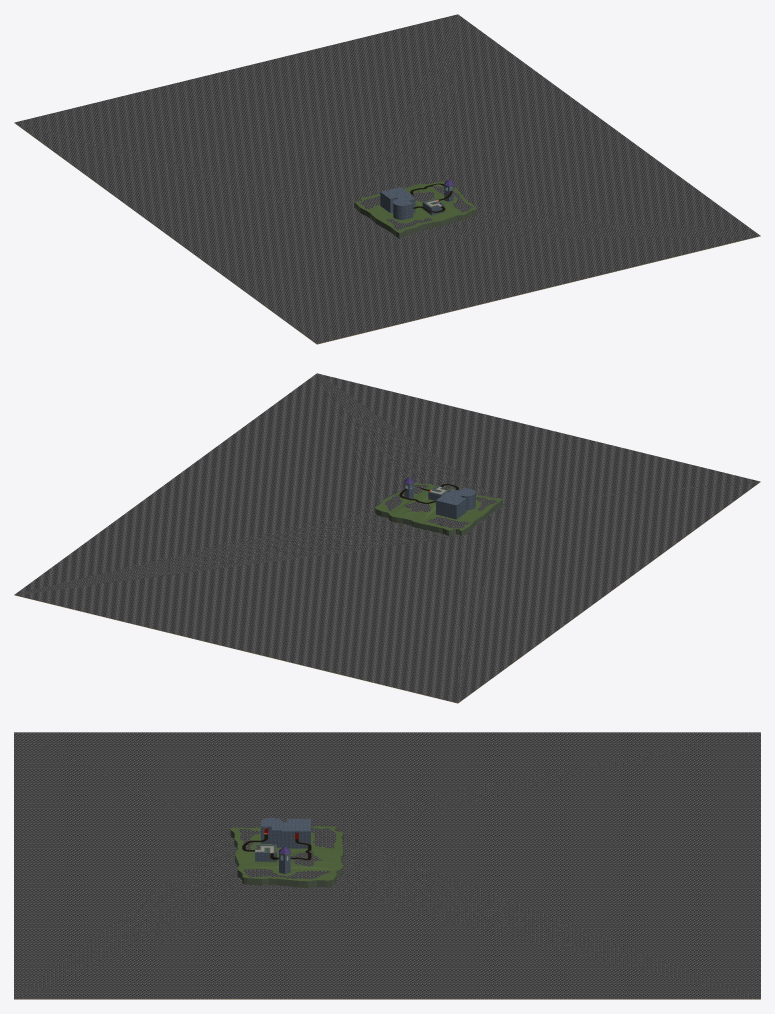
3 renders of one model, top to bottom at view 1: azimuth 30°, elevation 25°; view 2: azimuth 150°, elevation 25°; view 3: azimuth 270°, elevation 25°, orthographic. The views are drawn at different scales.
Parts seen in each view (by area): view 1: Carpet_Spires_SKP__ef_wave, Carpet_Spires_SKP__Grass, Carpet_Spires_SKP__Wall, Carpet_Spires_SKP__Rock, Carpet_Spires_SKP__Sand; view 2: Carpet_Spires_SKP__ef_wave, Carpet_Spires_SKP__Grass, Carpet_Spires_SKP__Wall, Carpet_Spires_SKP__Rock, Carpet_Spires_SKP__Sand; view 3: Carpet_Spires_SKP__ef_wave, Carpet_Spires_SKP__Grass, Carpet_Spires_SKP__Wall, Carpet_Spires_SKP__Rock, Carpet_Spires_SKP__Sand.
Part boxes in pixels (bbox=[...]): Carpet_Spires_SKP__ef_wave: bbox=[14, 14, 760, 344]; Carpet_Spires_SKP__Grass: bbox=[355, 181, 475, 233]; Carpet_Spires_SKP__Wall: bbox=[380, 185, 453, 219]; Carpet_Spires_SKP__Rock: bbox=[354, 199, 476, 238]; Carpet_Spires_SKP__Sand: bbox=[14, 123, 759, 344]; Carpet_Spires_SKP__ef_wave: bbox=[14, 373, 760, 703]; Carpet_Spires_SKP__Grass: bbox=[375, 482, 502, 530]; Carpet_Spires_SKP__Wall: bbox=[404, 483, 475, 519]; Carpet_Spires_SKP__Rock: bbox=[375, 499, 502, 536]; Carpet_Spires_SKP__Sand: bbox=[15, 482, 760, 703]; Carpet_Spires_SKP__ef_wave: bbox=[14, 732, 760, 999]; Carpet_Spires_SKP__Grass: bbox=[230, 826, 343, 881]; Carpet_Spires_SKP__Wall: bbox=[255, 817, 310, 873]; Carpet_Spires_SKP__Rock: bbox=[230, 828, 343, 887]; Carpet_Spires_SKP__Sand: bbox=[14, 999, 760, 999].
Bounding box in the file's own units: 561025 × 31335 × 662999.
Materials: 17 (17 with a texture image).
